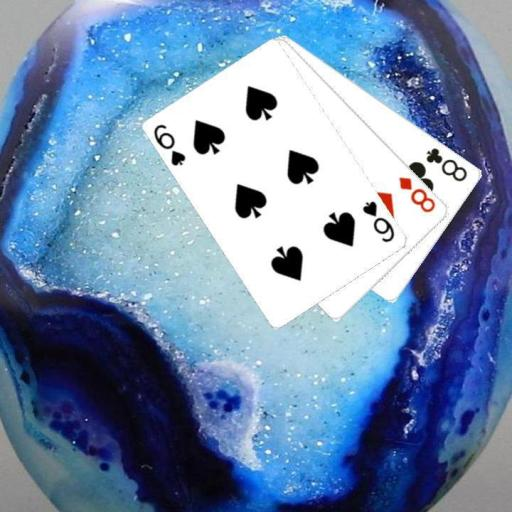card-corner: (423, 144, 469, 184), (150, 121, 188, 168), (359, 198, 397, 244), (395, 174, 438, 214)
